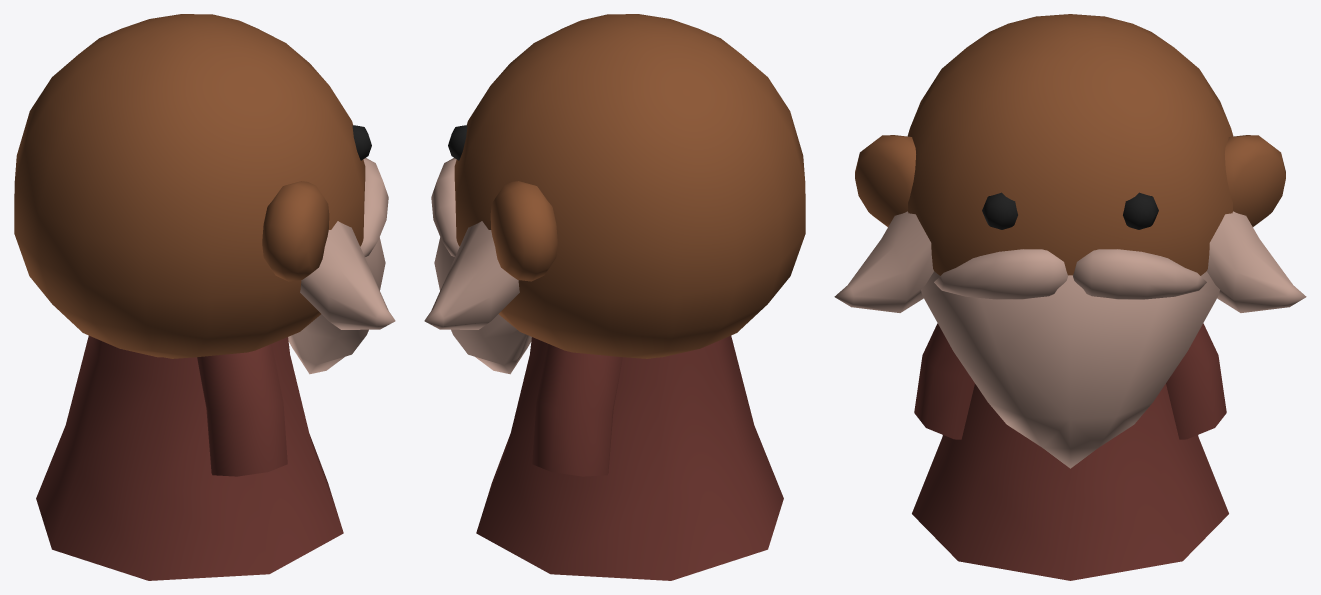
Rendered from tongrandmort.fbx.
3 renders of one model, left to right at view 1: azimuth 30°, elevation 25°; view 2: azimuth 150°, elevation 25°; view 3: azimuth 270°, elevation 25°, orthographic.
Visible parts, largest first — view 1: Tongrandmort; view 2: Tongrandmort; view 3: Tongrandmort.
Part boxes in pixels (x1,y1,x2,y2): Tongrandmort: (14, 14, 395, 580); Tongrandmort: (424, 14, 805, 580); Tongrandmort: (834, 14, 1306, 580).
Bounding box in the file's own units: 117 × 167 × 147.
